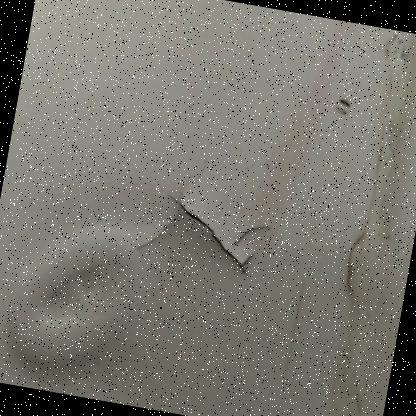Crack: (271, 21, 415, 415), (120, 125, 292, 309)
